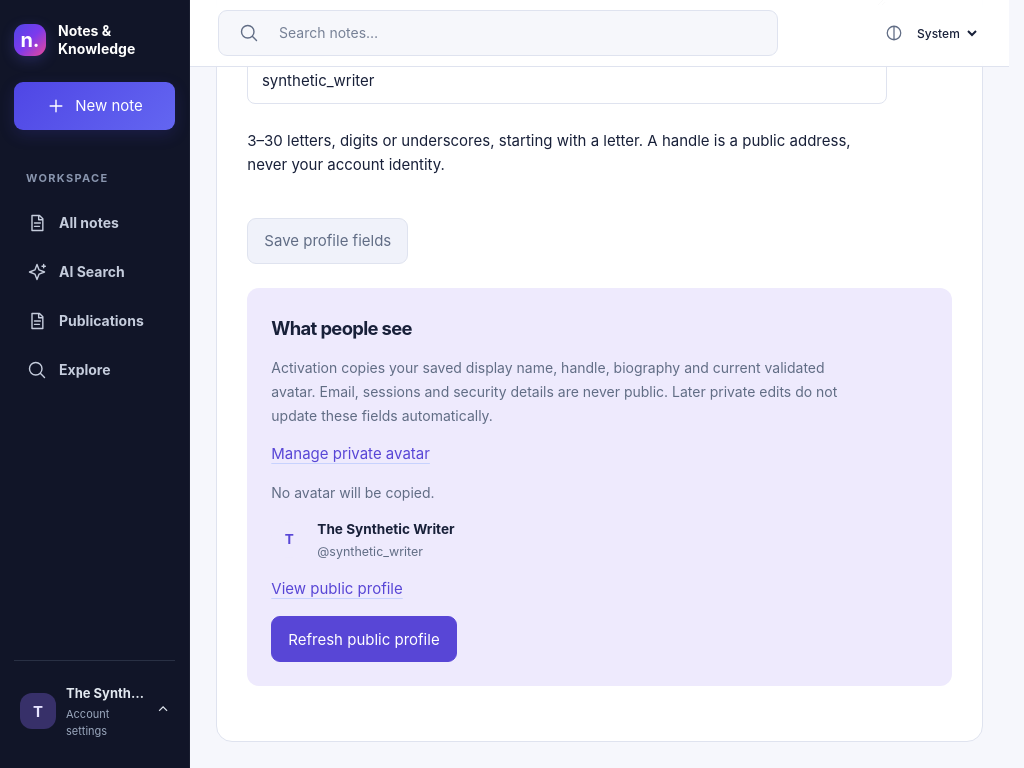
it: deliberate owner workflow › does not activate or publish automatically from public profile settings
The image size is (1024, 768).
(page scrolled)
expect the field labelled "Public handle" is shown: met, box [247,56,887,104]
Click the button "Refresh public profile" at (364, 639), box [271,616,457,662]
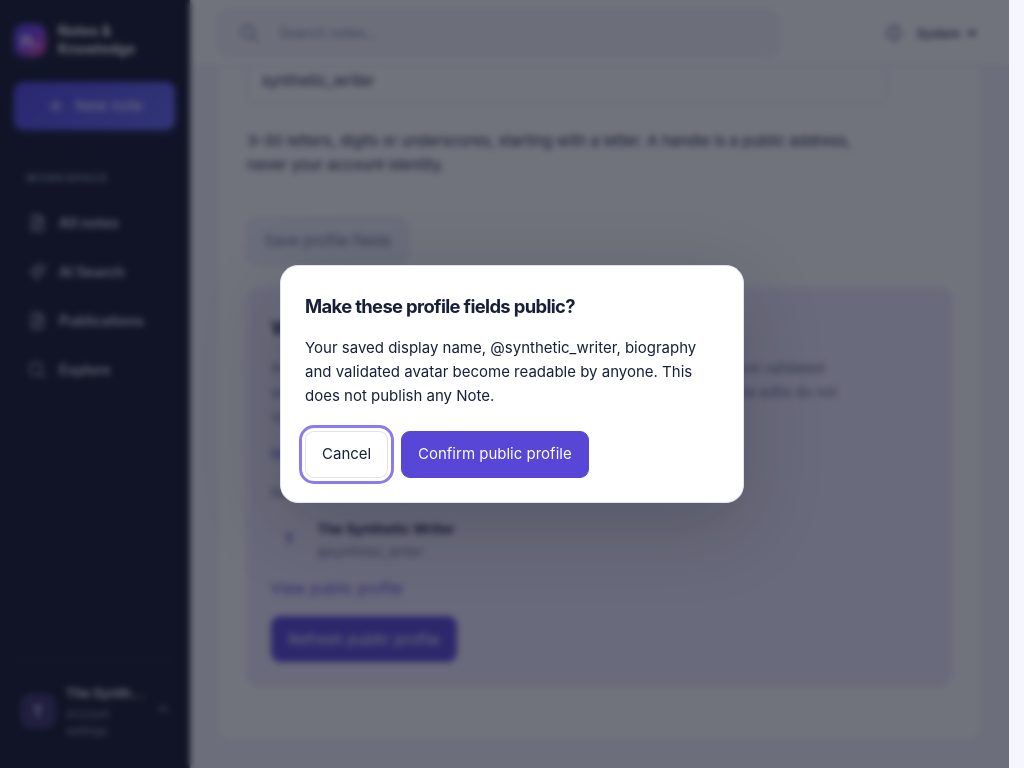
Click the button "Confirm public profile" at (495, 454), box [401,431,589,478]
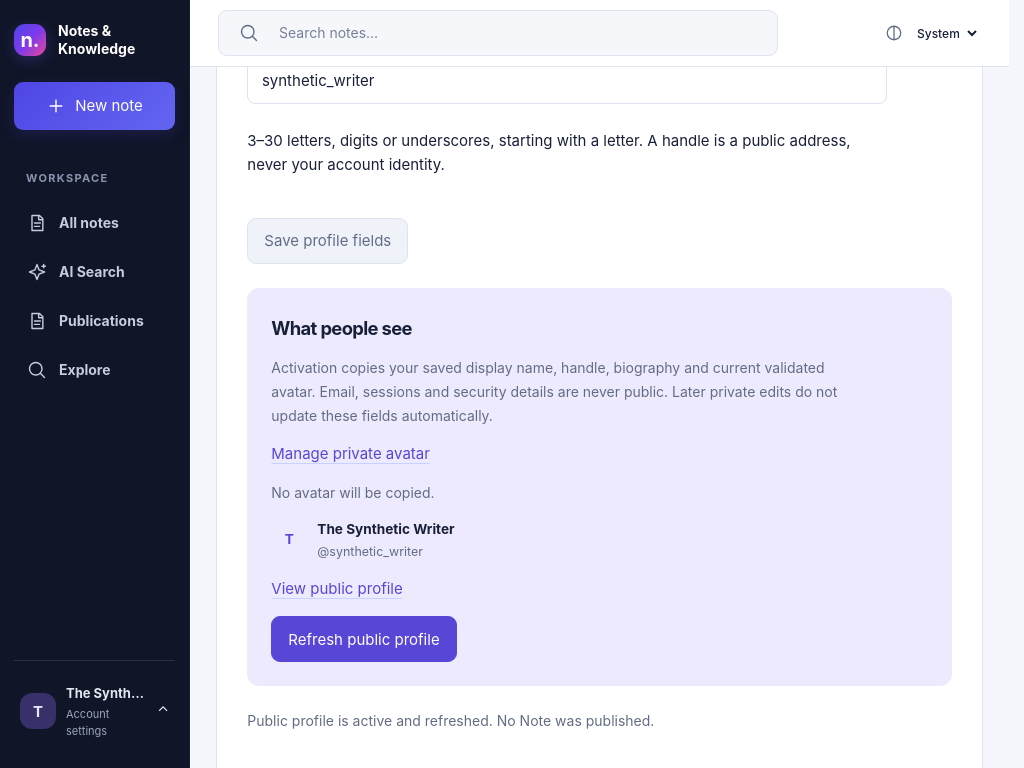
expect the text "Public profile is active and refreshed. No Note was published." is shown: met, box [247,712,654,729]
